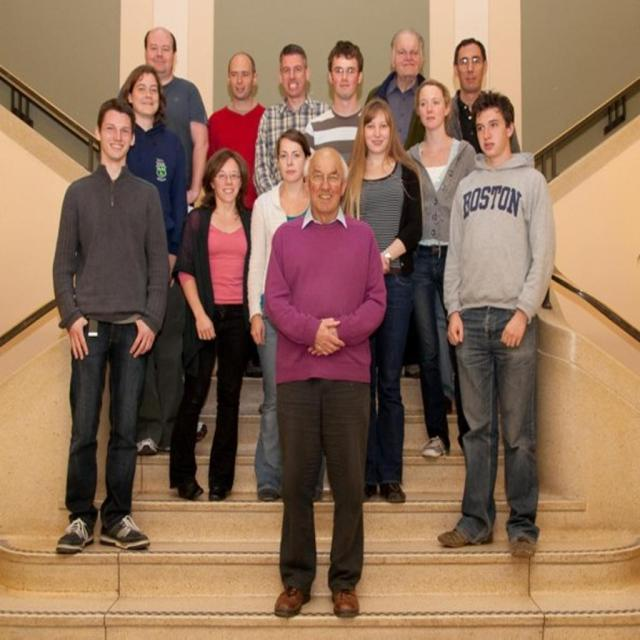Face: (301, 150, 358, 221), (470, 96, 519, 171), (419, 78, 463, 140), (143, 19, 187, 80), (324, 42, 371, 98), (271, 40, 316, 94), (451, 36, 490, 96), (96, 113, 137, 168), (223, 51, 261, 110), (123, 69, 162, 125), (391, 34, 432, 83), (211, 157, 247, 210), (359, 105, 394, 159), (271, 144, 307, 185)
